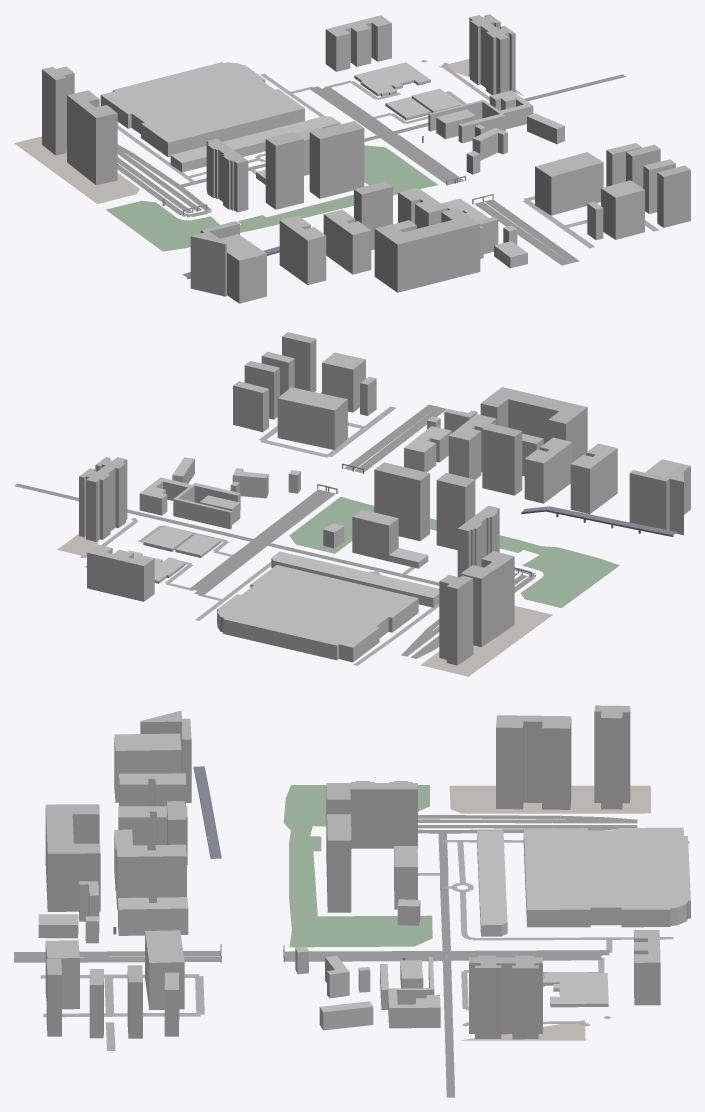
3 views of the same model, one above another, from view 1: azimuth 30°, elevation 25°; view 2: azimuth 150°, elevation 25°; view 3: azimuth 270°, elevation 25° (orthographic). The views are drawn at different scales.
Size of the model in its own units: 632 by 84.3 by 562.
